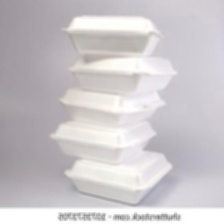foam_box: (62, 145, 176, 207), (46, 114, 159, 168), (57, 10, 168, 61), (65, 49, 182, 97), (55, 84, 170, 128)
